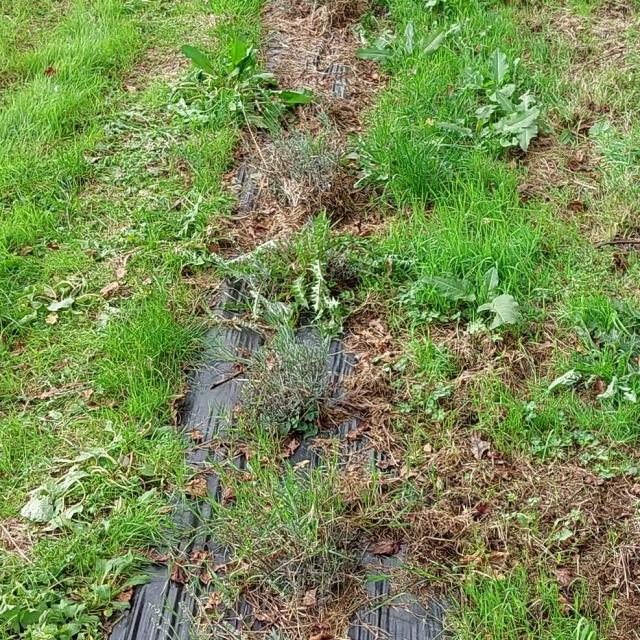organic waste: (167, 18, 307, 138), (405, 254, 527, 338), (18, 437, 126, 527), (32, 260, 148, 336), (353, 7, 452, 84), (455, 90, 549, 153), (444, 56, 540, 116)
